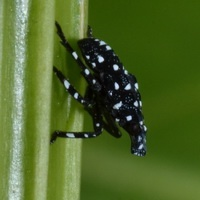insect: (51, 22, 146, 155)
